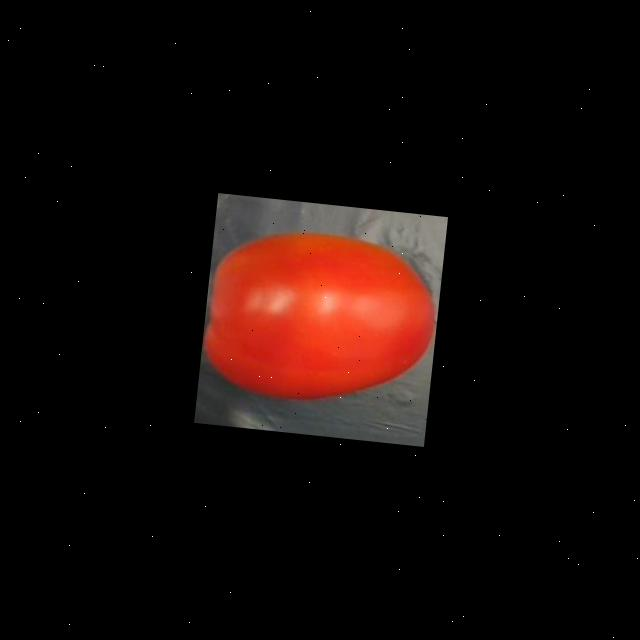tomato: (196, 219, 444, 420)
